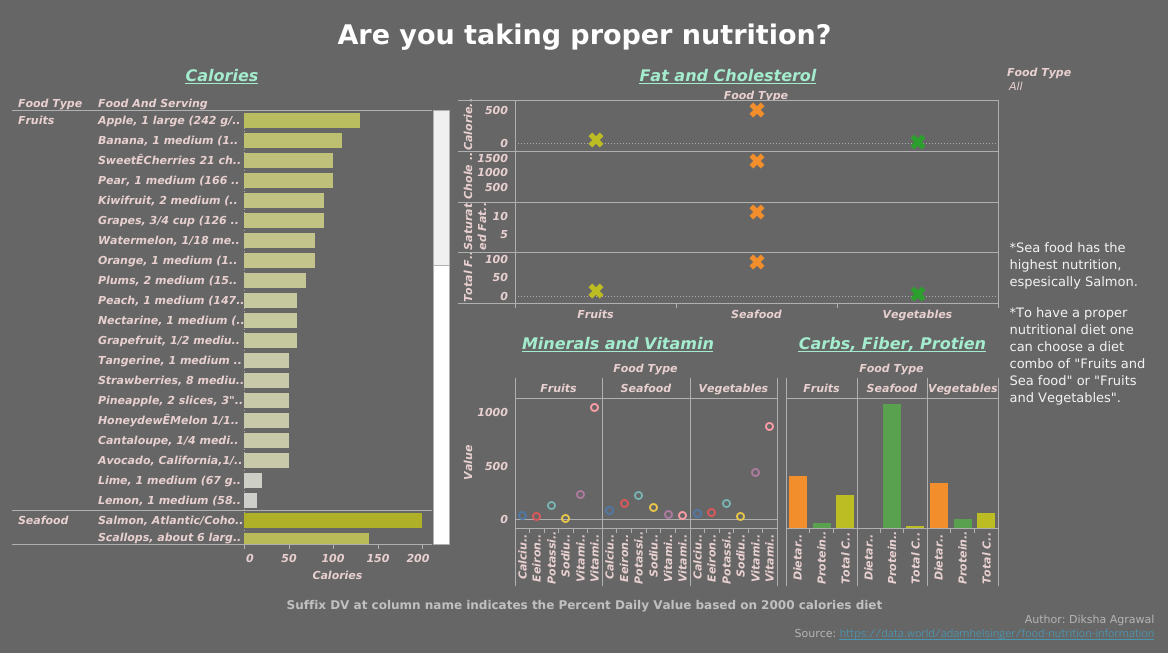

This screenshot's page, from the dashboard's own definition file:
{"tool":"tableau","page":{"name":"Dashboard 1","canvas":[1169,654],"ordinal":0},"visuals":[{"type":"worksheet","box":[0,0,1169,654]},{"type":"worksheet","param":"vert","box":[8,8,1153,582]},{"type":"worksheet","box":[8,8,1153,52]},{"type":"worksheet","param":"horz","box":[8,60,1153,530]},{"type":"worksheet","box":[8,60,995,530]},{"type":"worksheet","title":"Sheet 3","mark":"Automatic","rows":["food_type","food_and_serving"],"cols":["calories"],"box":[8,60,445.9,530]},{"type":"worksheet","title":"Sheet 5","mark":"Shape","rows":["caloriesefrom_fat","chole_sterol_dv","saturated_fat_dv","total_fat_dv"],"cols":["food_type"],"box":[453.9,60,549.1,268.3]},{"type":"worksheet","param":"vert","box":[1003,60,158,530]},{"type":"worksheet","title":"Sheet 2","mark":"Shape","cols":["food_type"],"param":"[federated.1qyh21u16jvj7w14x49ce0owk4a5].[none:food_type:nk]","box":[1003,60,158,175]},{"type":"worksheet","box":[1003,235,158,150]},{"type":"worksheet","title":"Sheet 2","mark":"Shape","cols":["food_type"],"box":[453.9,328.3,328.1,261.7]},{"type":"worksheet","title":"Sheet 4","mark":"Automatic","cols":["food_type"],"box":[782,328.3,221,261.7]},{"type":"worksheet","box":[8,590,1153,56]}]}

Visuals, with their boxes in screenshot pixels (x1, y1, x2, y2), scaled from the page's 1169x654 canvas onto the 1168x653 screenshot:
worksheet: box(0, 0, 1167, 652)
worksheet: box(8, 8, 1160, 589)
worksheet: box(8, 8, 1160, 60)
worksheet: box(8, 60, 1160, 589)
worksheet: box(8, 60, 1002, 589)
"Sheet 3" worksheet: box(8, 60, 454, 589)
"Sheet 5" worksheet (Shape marks): box(454, 60, 1002, 328)
worksheet: box(1002, 60, 1160, 589)
"Sheet 2" worksheet (Shape marks): box(1002, 60, 1160, 235)
worksheet: box(1002, 235, 1160, 384)
"Sheet 2" worksheet (Shape marks): box(454, 328, 781, 589)
"Sheet 4" worksheet: box(781, 328, 1002, 589)
worksheet: box(8, 589, 1160, 645)
